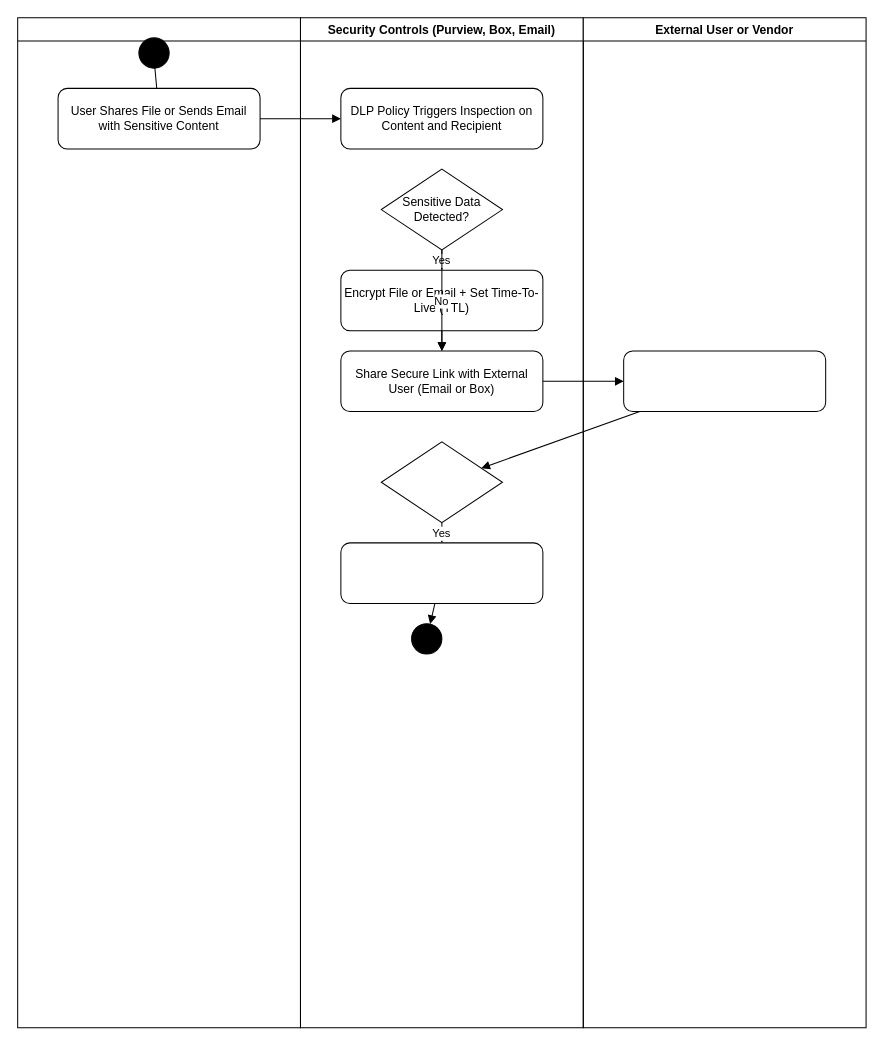
This 884x1045 diagram has some shape labels left out. The box of each missing label's shape, as (x1, y1, x2, y2) in pixels:
Block Access to File or Email: (340, 542, 543, 603)
External User Accesses Encrypted Link: (623, 350, 826, 412)
Internal User (Sender): (17, 17, 300, 1028)
TTL Expired or Access Revoked?: (380, 441, 502, 523)
